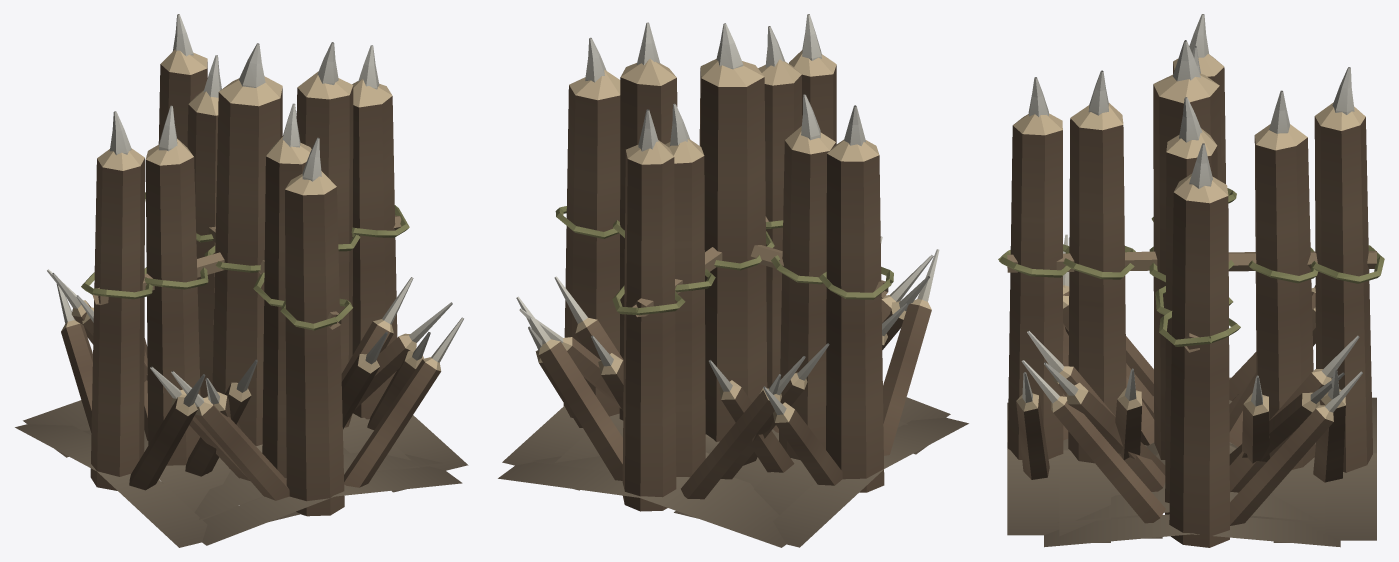
File: bone_palisade_a.glb
The picture shows the model from 3 angles, left to right: view 1: azimuth 30°, elevation 25°; view 2: azimuth 150°, elevation 25°; view 3: azimuth 270°, elevation 25°; orthographic projection. The views are drawn at different scales.
Visible parts, largest first — view 1: Run_W, Run_S, Run_E, Post, Run_N; view 2: Run_W, Run_N, Run_E, Post, Run_S; view 3: Run_S, Run_E, Run_N, Post, Run_W.
Boxes of the visible parts, x1,y1,x2,y2 form: Run_W: (15,105,300,547); Run_S: (150,103,463,545); Run_E: (296,42,468,492); Post: (47,43,452,468); Run_N: (23,14,221,457); Run_W: (674,94,968,547); Run_N: (498,103,829,547); Run_E: (502,22,677,490); Post: (519,23,933,465); Run_S: (758,14,950,454); Run_S: (998,70,1162,542); Run_E: (1021,97,1362,547); Run_N: (1228,67,1384,542); Post: (1044,40,1344,475); Run_W: (1063,14,1315,443).
Bounding box in the file's own units: 1.05 × 1.29 × 1.05.
